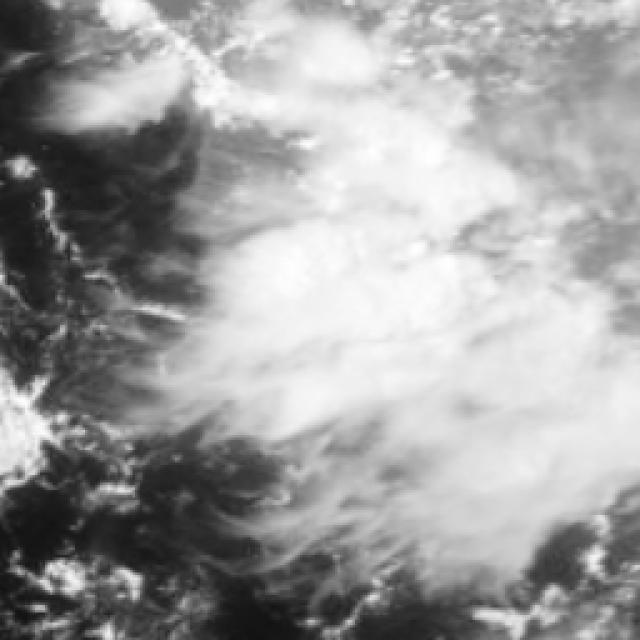CB: (237, 240, 454, 394), (469, 329, 640, 464)
